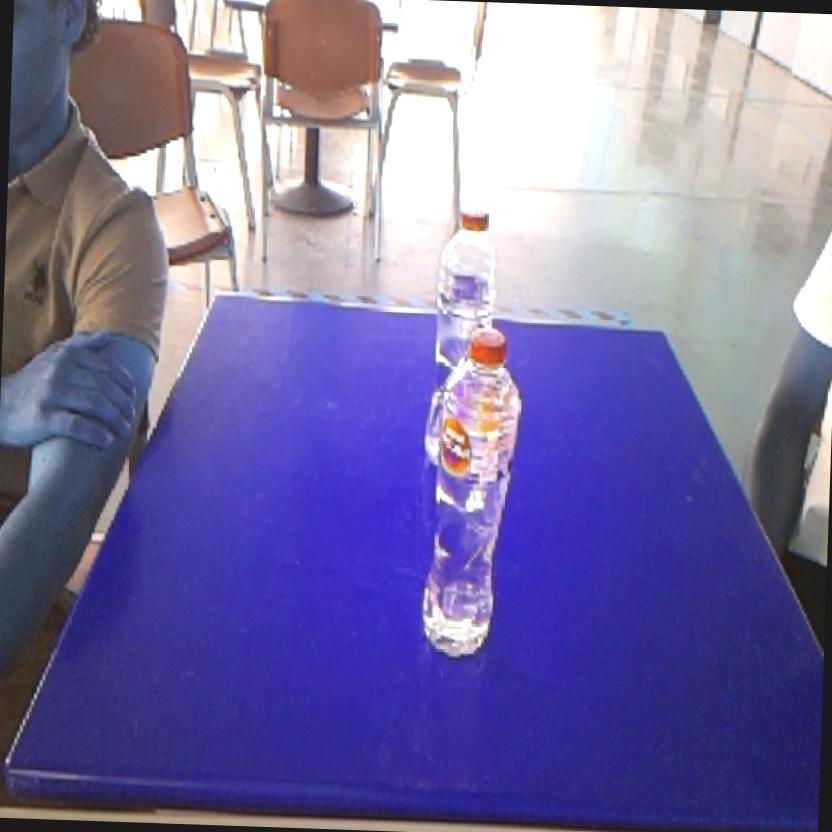good: (415, 322, 533, 672)
no_label: (431, 192, 508, 324)
